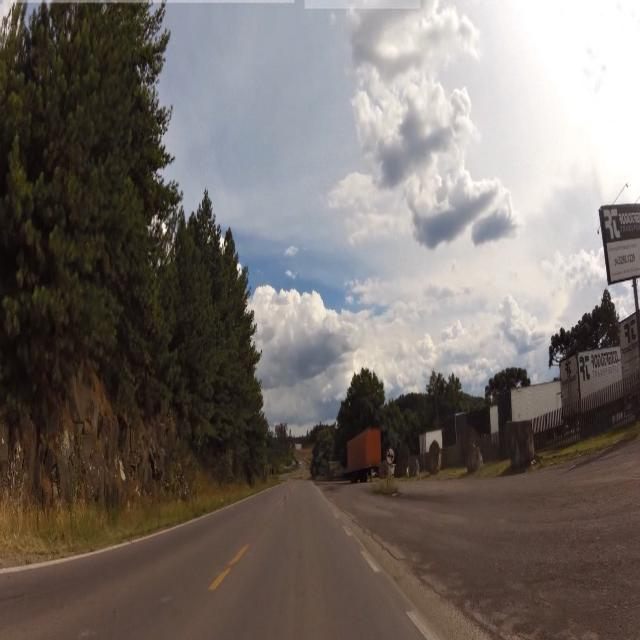R-7: (386, 448, 396, 470)
